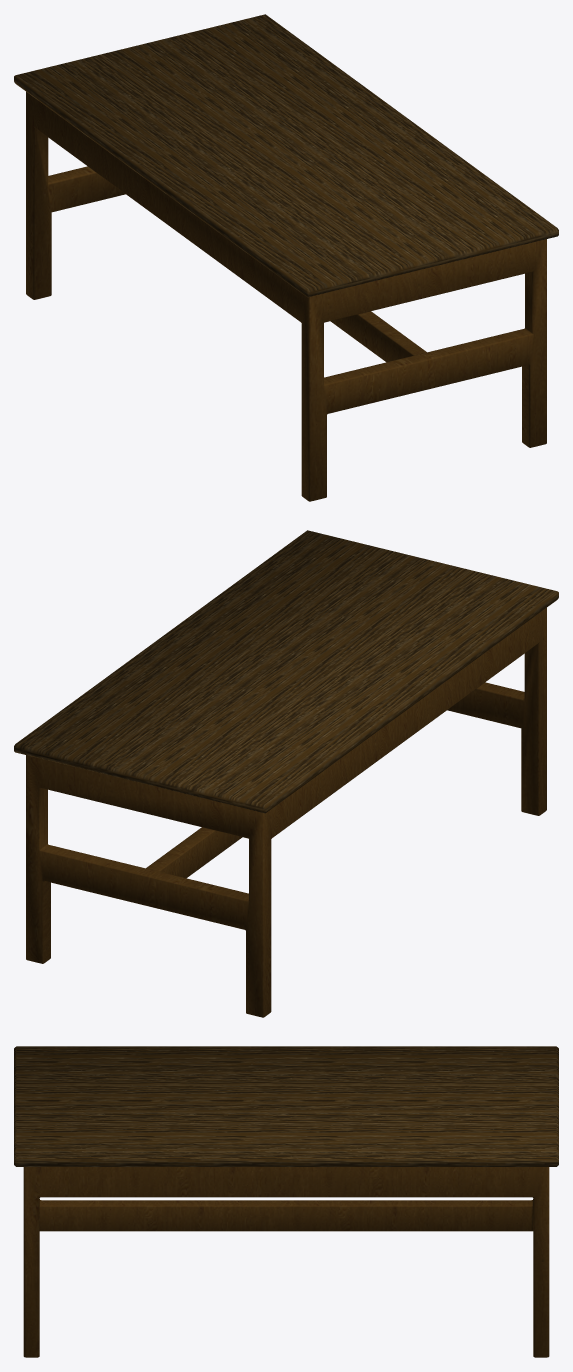
The model's file is stol.glb.
3 views of the same model, one above another, from view 1: azimuth 30°, elevation 25°; view 2: azimuth 150°, elevation 25°; view 3: azimuth 270°, elevation 25° (orthographic). The views are drawn at different scales.
Visible parts, largest first — view 1: Cube.134; view 2: Cube.134; view 3: Cube.134.
Boxes of the visible parts, left/top/right/bottom form: Cube.134: left=14, top=14, right=558, bottom=501; Cube.134: left=14, top=530, right=558, bottom=1017; Cube.134: left=14, top=1046, right=558, bottom=1357.
Size of the model in its own units: 1.04 by 0.8541 by 2.1.
1 material, 1 textured.
